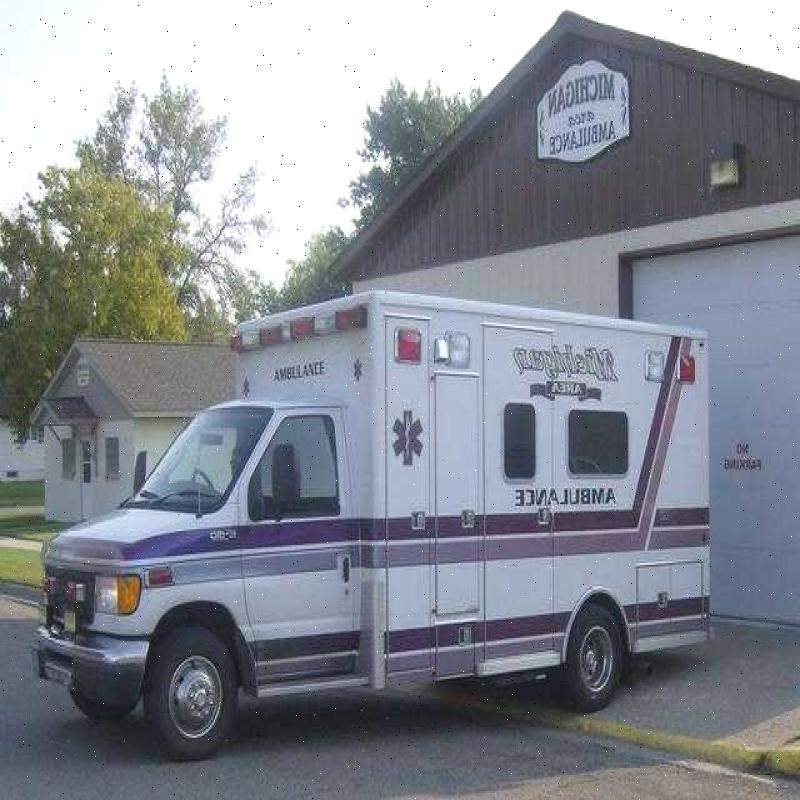AmbulanceSiren: (194, 300, 372, 366)
